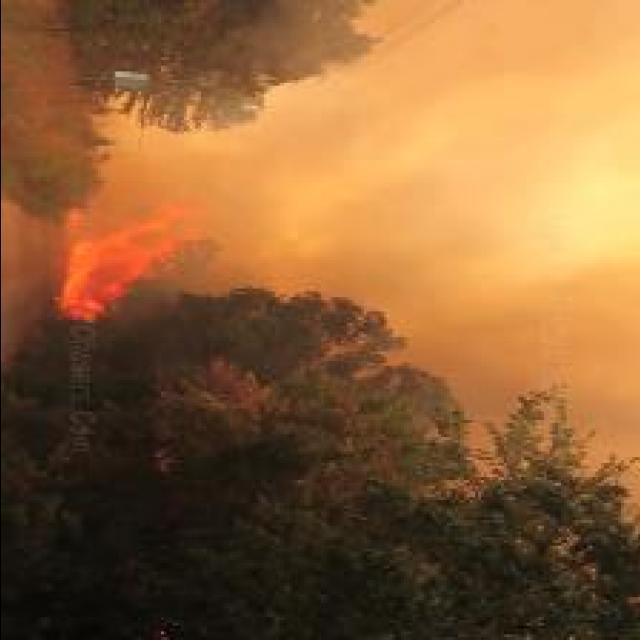Fire: (56, 203, 210, 323)
